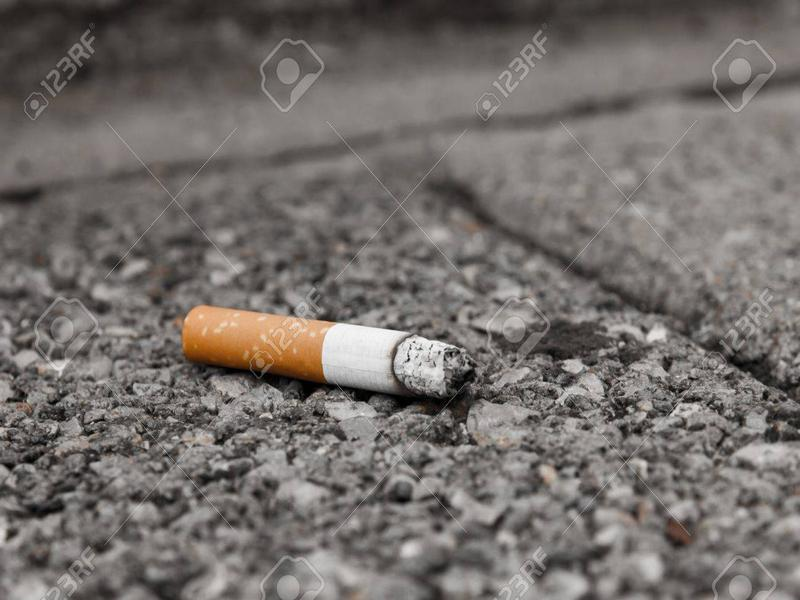burned_cigarette: (177, 302, 481, 404)
